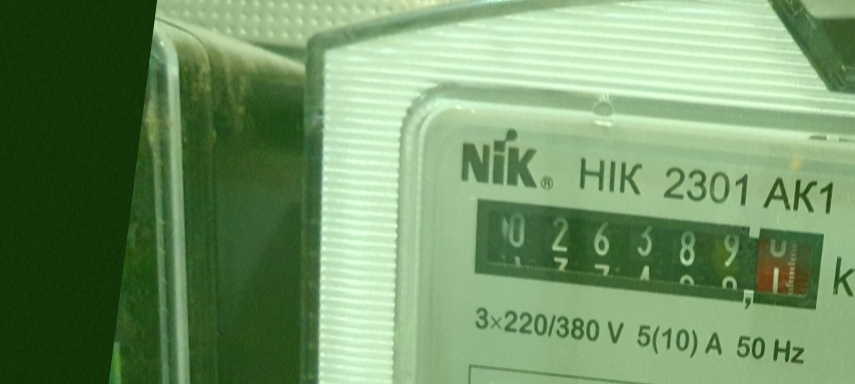0: (503, 208, 531, 250), (768, 237, 789, 259)
1: (768, 264, 784, 296)
2: (547, 213, 575, 255)
3: (634, 223, 656, 259)
6: (591, 217, 614, 258)
8: (676, 228, 701, 268)
9: (720, 232, 741, 268)
screen: (453, 177, 843, 329)
